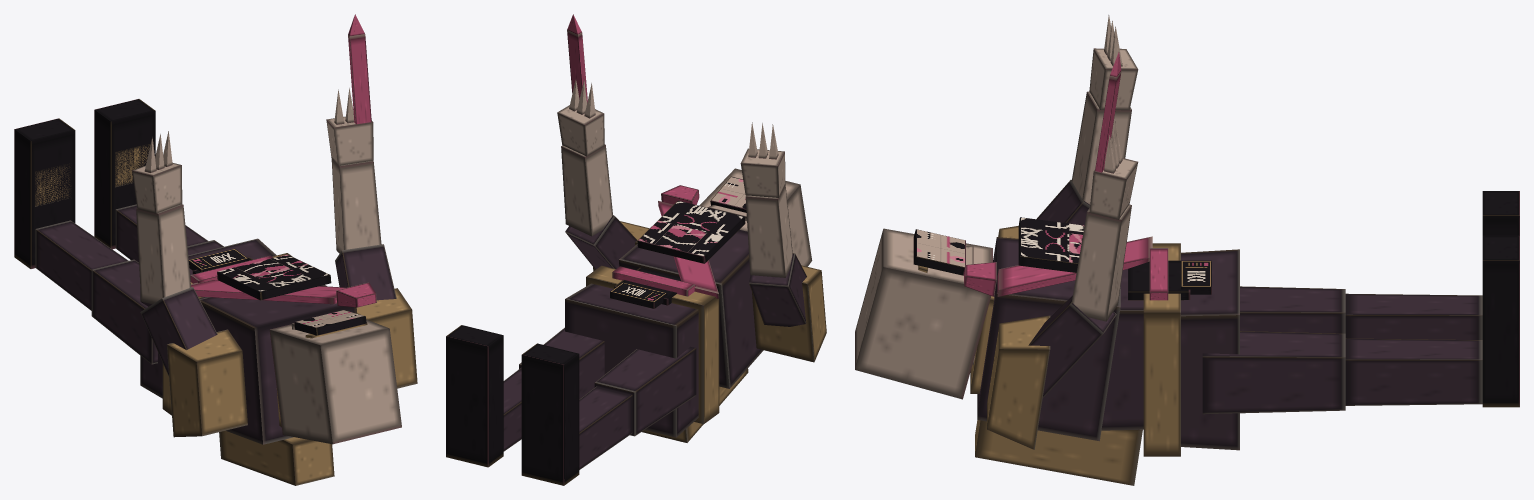
The model's file is promissor_warning.obj.
3 renders of one model, left to right at view 1: azimuth 30°, elevation 25°; view 2: azimuth 150°, elevation 25°; view 3: azimuth 270°, elevation 25°, orthographic. The views are drawn at different scales.
Visible parts, largest first — view 1: promissor_warning; view 2: promissor_warning; view 3: promissor_warning.
Part boxes in pixels (<box>): promissor_warning: <box>14,14,417,485</box>; promissor_warning: <box>446,14,826,485</box>; promissor_warning: <box>855,15,1519,485</box>.
Size of the model in its own units: 0.4756 by 0.8039 by 1.01.
Materials: 1 (1 with a texture image).
